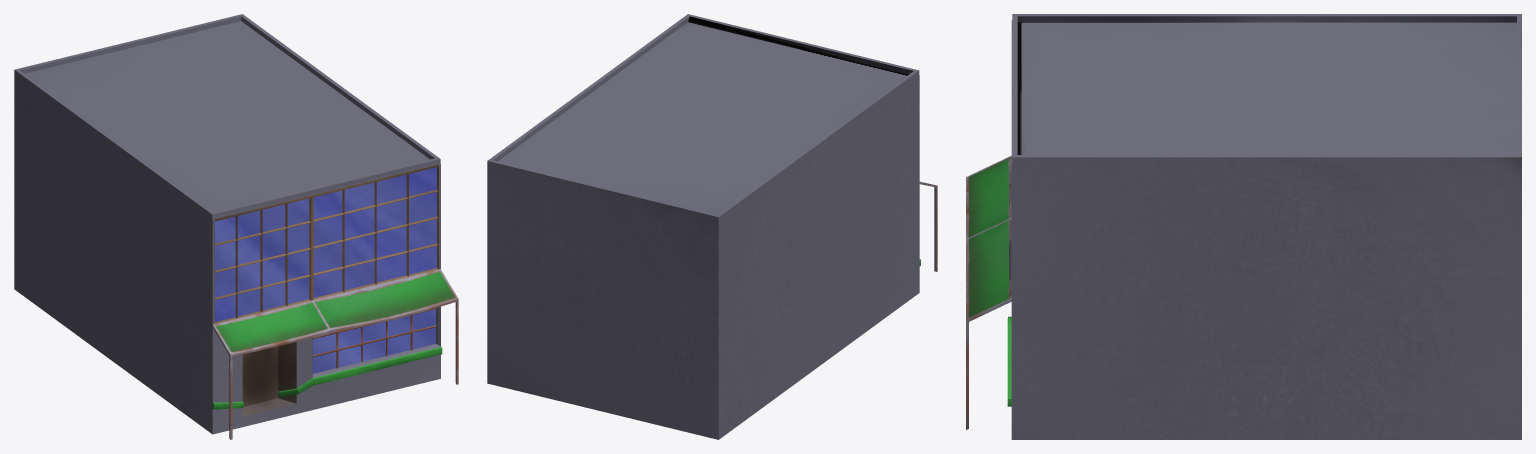
The model's file is Building05.fbx.
3 views of the same model, side by side, from view 1: azimuth 30°, elevation 25°; view 2: azimuth 150°, elevation 25°; view 3: azimuth 270°, elevation 25° (orthographic). The views are drawn at different scales.
Parts seen in each view (by area): view 1: Building05; view 2: Building05; view 3: Building05.
Boxes of the visible parts, box(x1,y1,x2,y2) form: Building05: box(14, 14, 458, 439); Building05: box(487, 14, 937, 439); Building05: box(966, 14, 1521, 439).
Bounding box in the file's own units: 1000 × 920 × 1640.
